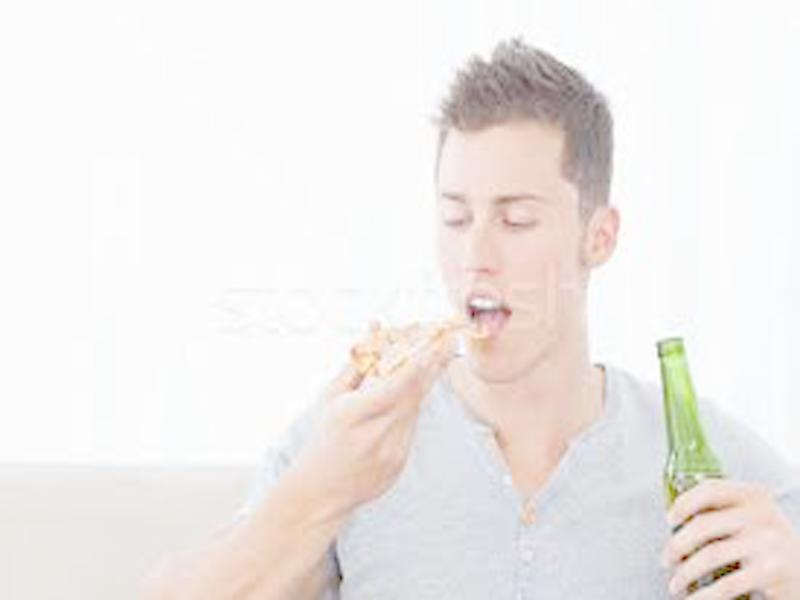Beer: (655, 338, 753, 600)
